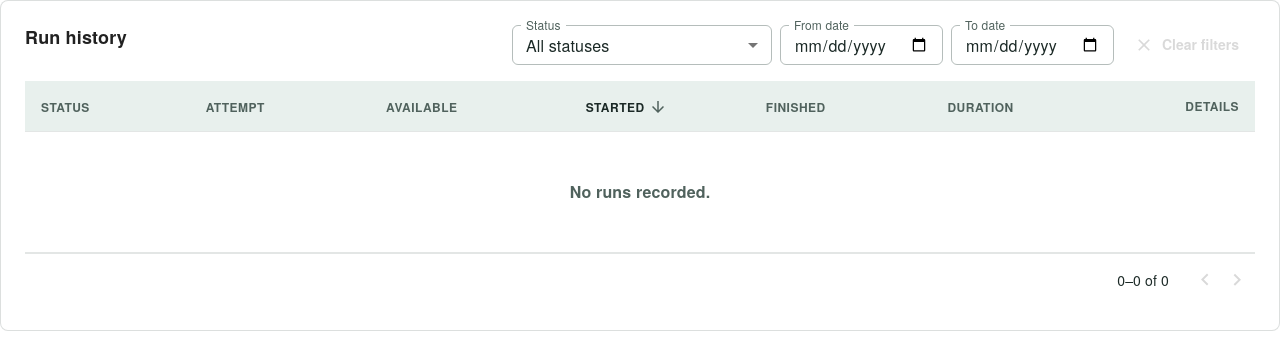
Test: RunHistoryTable › explains an invalid date range without requesting the server
The width and height of the screenshot is (1280, 348).
Type "2026-09-02" into the date field labelled "From date" at (862, 45), box [780,25,943,65]
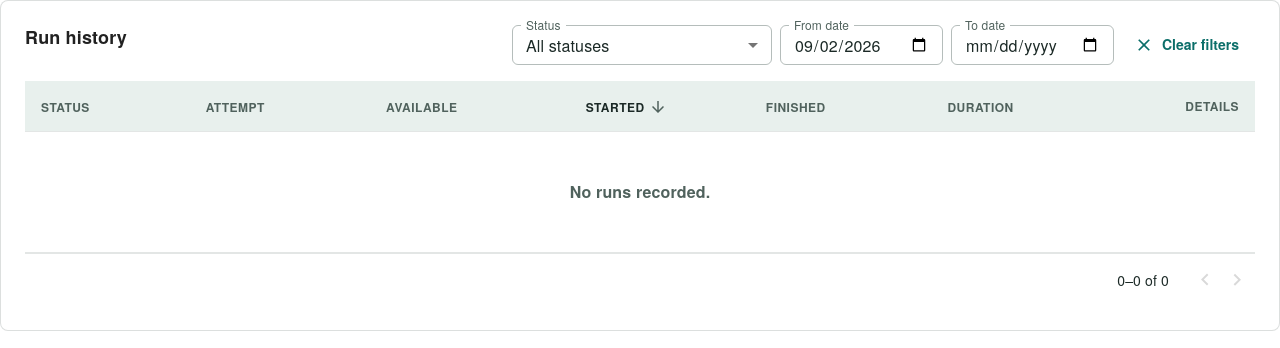
Type "2026-09-01" into the date field labelled "To date" at (1032, 45), box [951,25,1114,65]
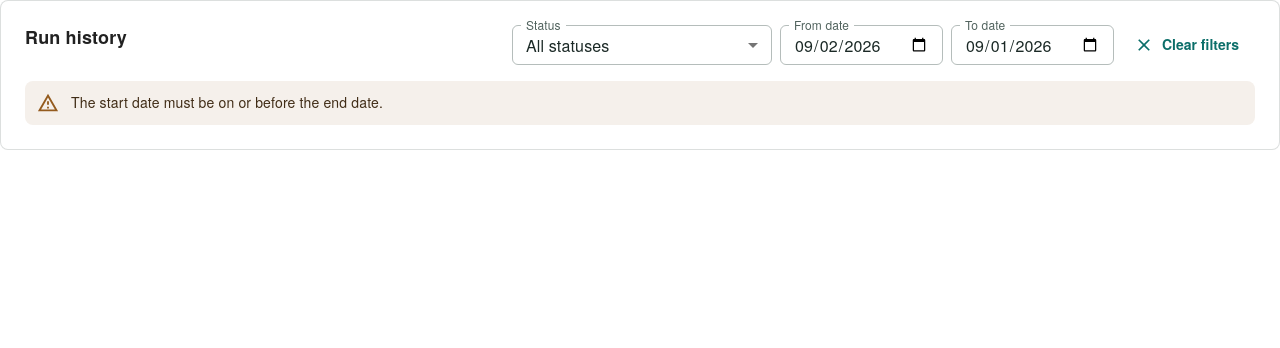
expect the text "The start date must be on or before the end date." is shown: met, box [71,89,383,115]
